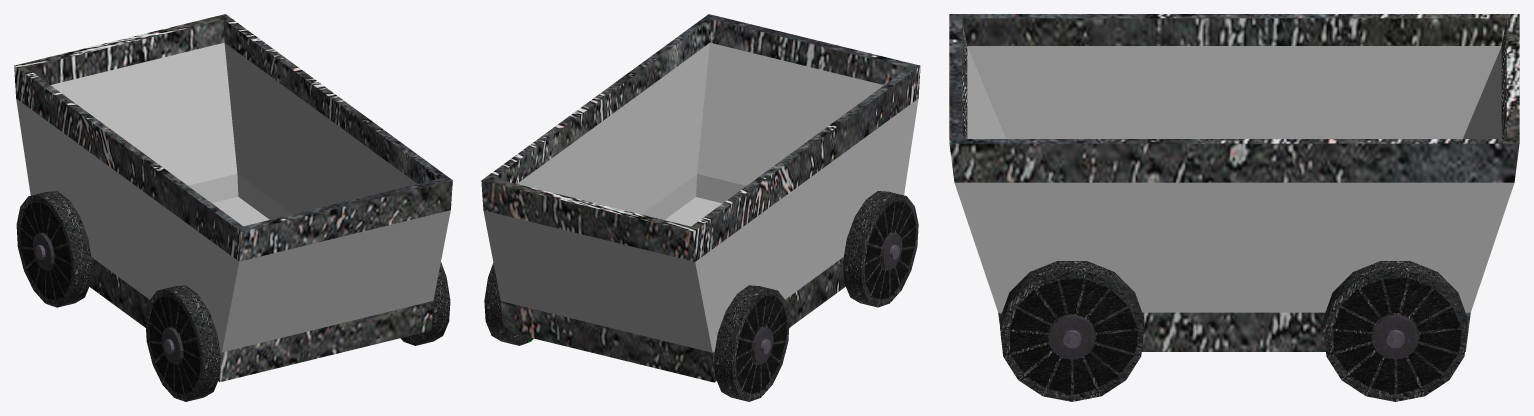
File: MineCart.FBX
3 renders of one model, left to right at view 1: azimuth 30°, elevation 25°; view 2: azimuth 150°, elevation 25°; view 3: azimuth 270°, elevation 25°, orthographic. The views are drawn at different scales.
Parts seen in each view (by area): view 1: Box001; view 2: Box001; view 3: Box001.
Boxes of the visible parts, x1,y1,x2,y2 form: Box001: (14, 14, 452, 401); Box001: (481, 14, 920, 401); Box001: (949, 14, 1519, 401).
Size of the model in its own units: 24.56 by 17.78 by 37.11.
